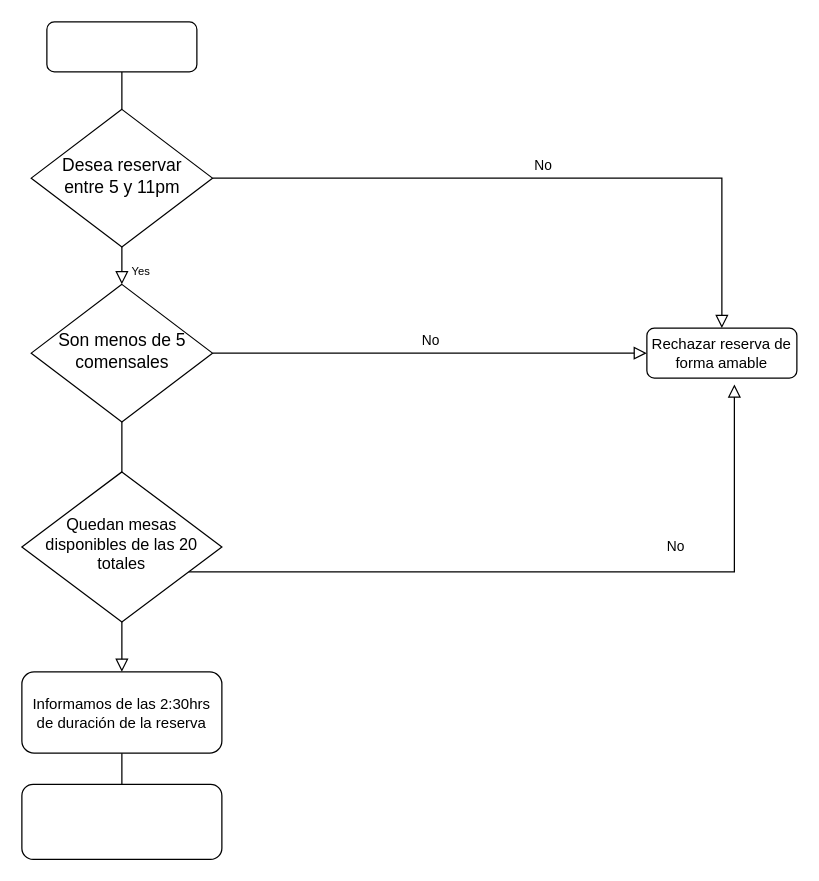
Image size: 819x881. Some labels were removed from this diagram. Here are the shapes that lost their labels. From the top down, the box of each, then its label:
(46, 21, 197, 72): El cliente desea reservar
(21, 783, 222, 859): Exigir los 2usd de la reserva
